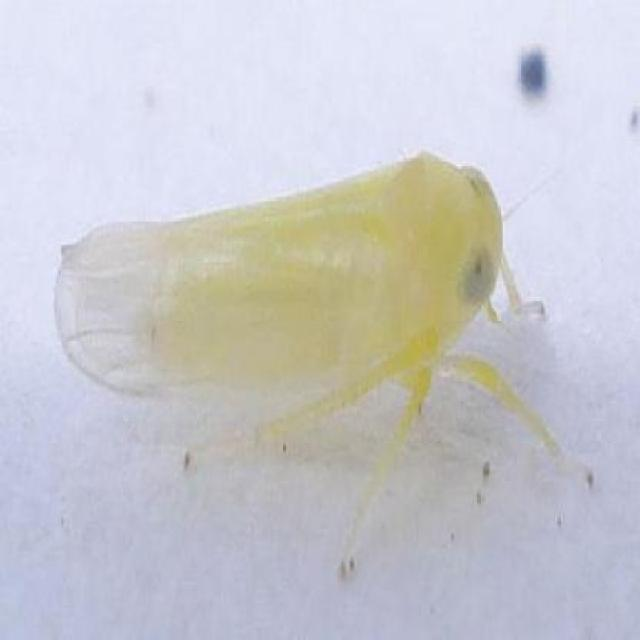green-leafhopper: (66, 162, 540, 506)
